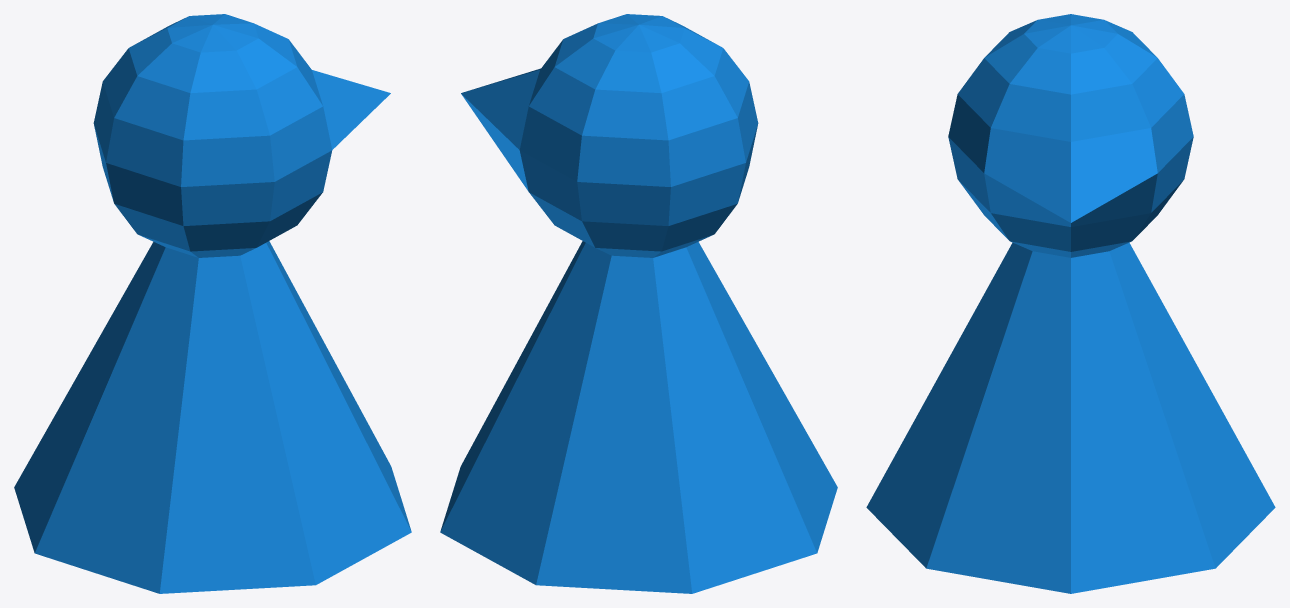
The model's file is Aquapix.fbx.
3 renders of one model, left to right at view 1: azimuth 30°, elevation 25°; view 2: azimuth 150°, elevation 25°; view 3: azimuth 270°, elevation 25°, orthographic.
Visible parts, largest first — view 1: Aquapix; view 2: Aquapix; view 3: Aquapix.
Part boxes in pixels (box(x1,y1,x2,y2)): Aquapix: box(14, 14, 411, 593); Aquapix: box(440, 14, 837, 593); Aquapix: box(866, 14, 1275, 593).
Bounding box in the file's own units: 76 × 98.8 × 76.
